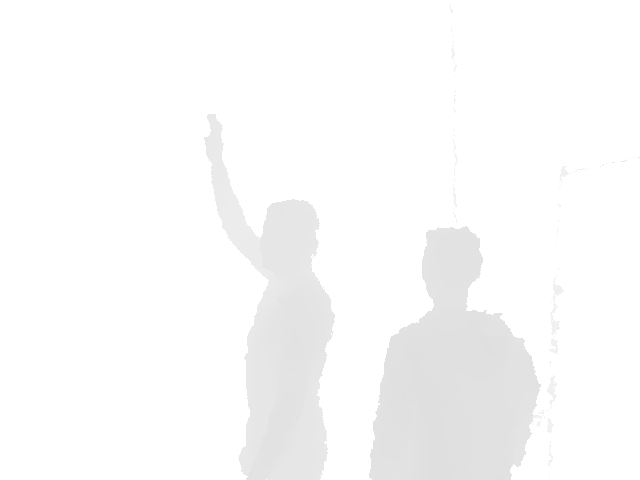hand: (203, 113, 224, 165)
head: (420, 227, 484, 309), (259, 199, 320, 276)
person: (203, 113, 337, 480), (366, 225, 544, 480)
